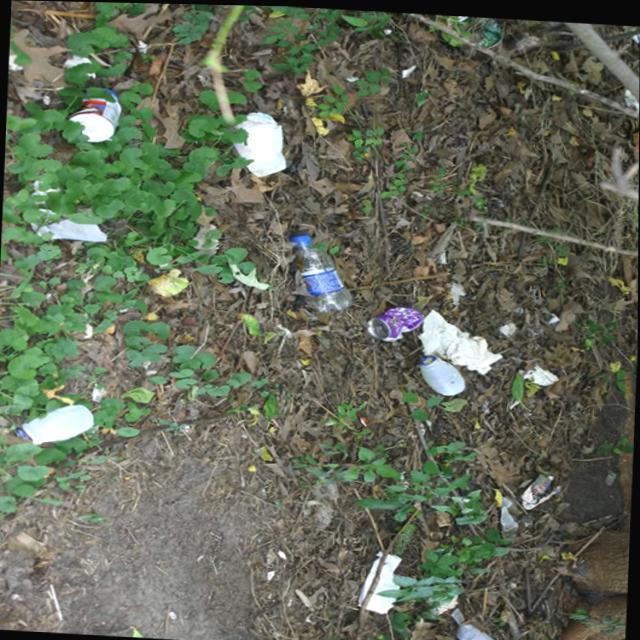Can-Metal: (361, 296, 429, 345)
Paper: (12, 173, 124, 248), (415, 302, 512, 371), (223, 102, 297, 183), (348, 543, 417, 618)
Plastic: (279, 220, 364, 318), (6, 392, 105, 453), (64, 78, 134, 142), (414, 348, 472, 396), (450, 616, 516, 640)
